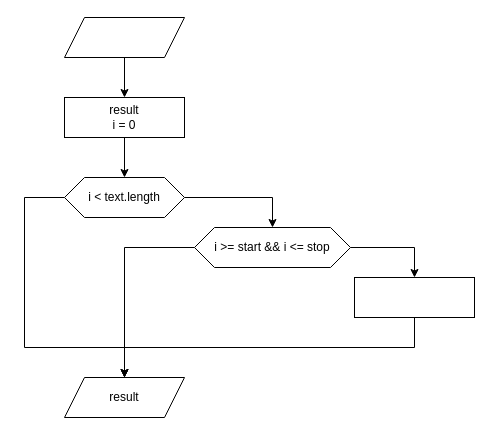
Some shapes in this 492 by 435 pixel diagram are drawn without their labels. The centre of each missing label's shape, as x and y in pixels:
"result += text[i] i++" belongs at (414,297).
"text, start, stop" belongs at (124,37).
